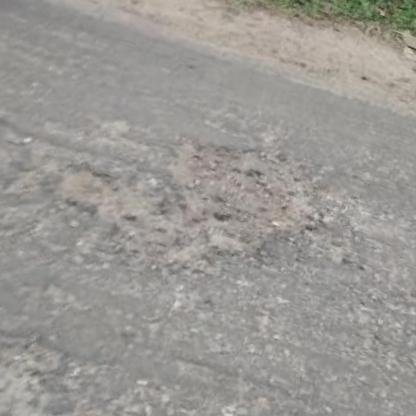pothole: (42, 76, 343, 310)
